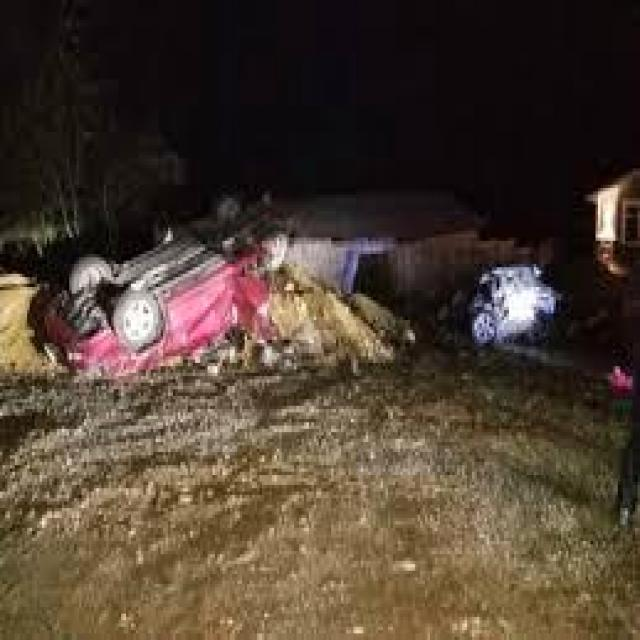severe: (25, 198, 286, 379)
